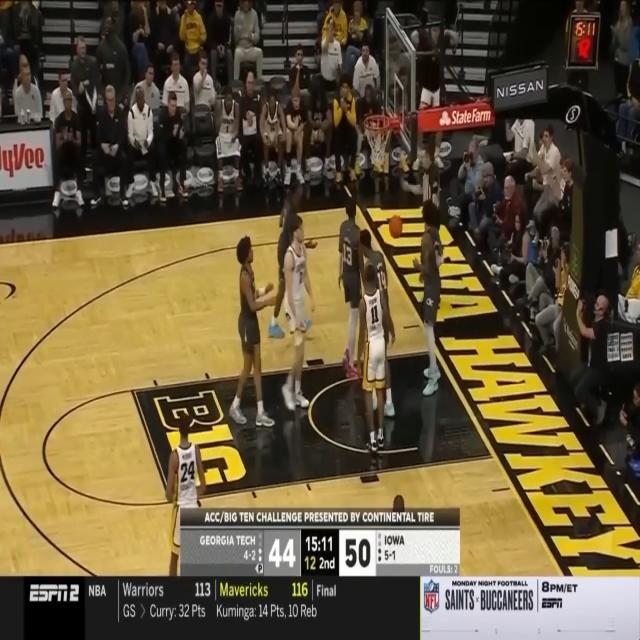Ball: (388, 215, 404, 239)
Hoop: (364, 114, 391, 170)
Period: (319, 557, 336, 570)
Player: (228, 234, 278, 430), (268, 174, 318, 342), (354, 264, 396, 454), (358, 227, 395, 419), (281, 216, 315, 412), (167, 415, 205, 575), (412, 201, 443, 397), (337, 196, 366, 387)
Ref: (402, 148, 440, 234)
Shot Clock: (304, 556, 316, 571)
Team Name: (199, 534, 256, 548), (384, 533, 406, 547)
Team Points: (344, 536, 372, 570), (269, 538, 295, 570)
Time Remaining: (306, 534, 334, 553)
